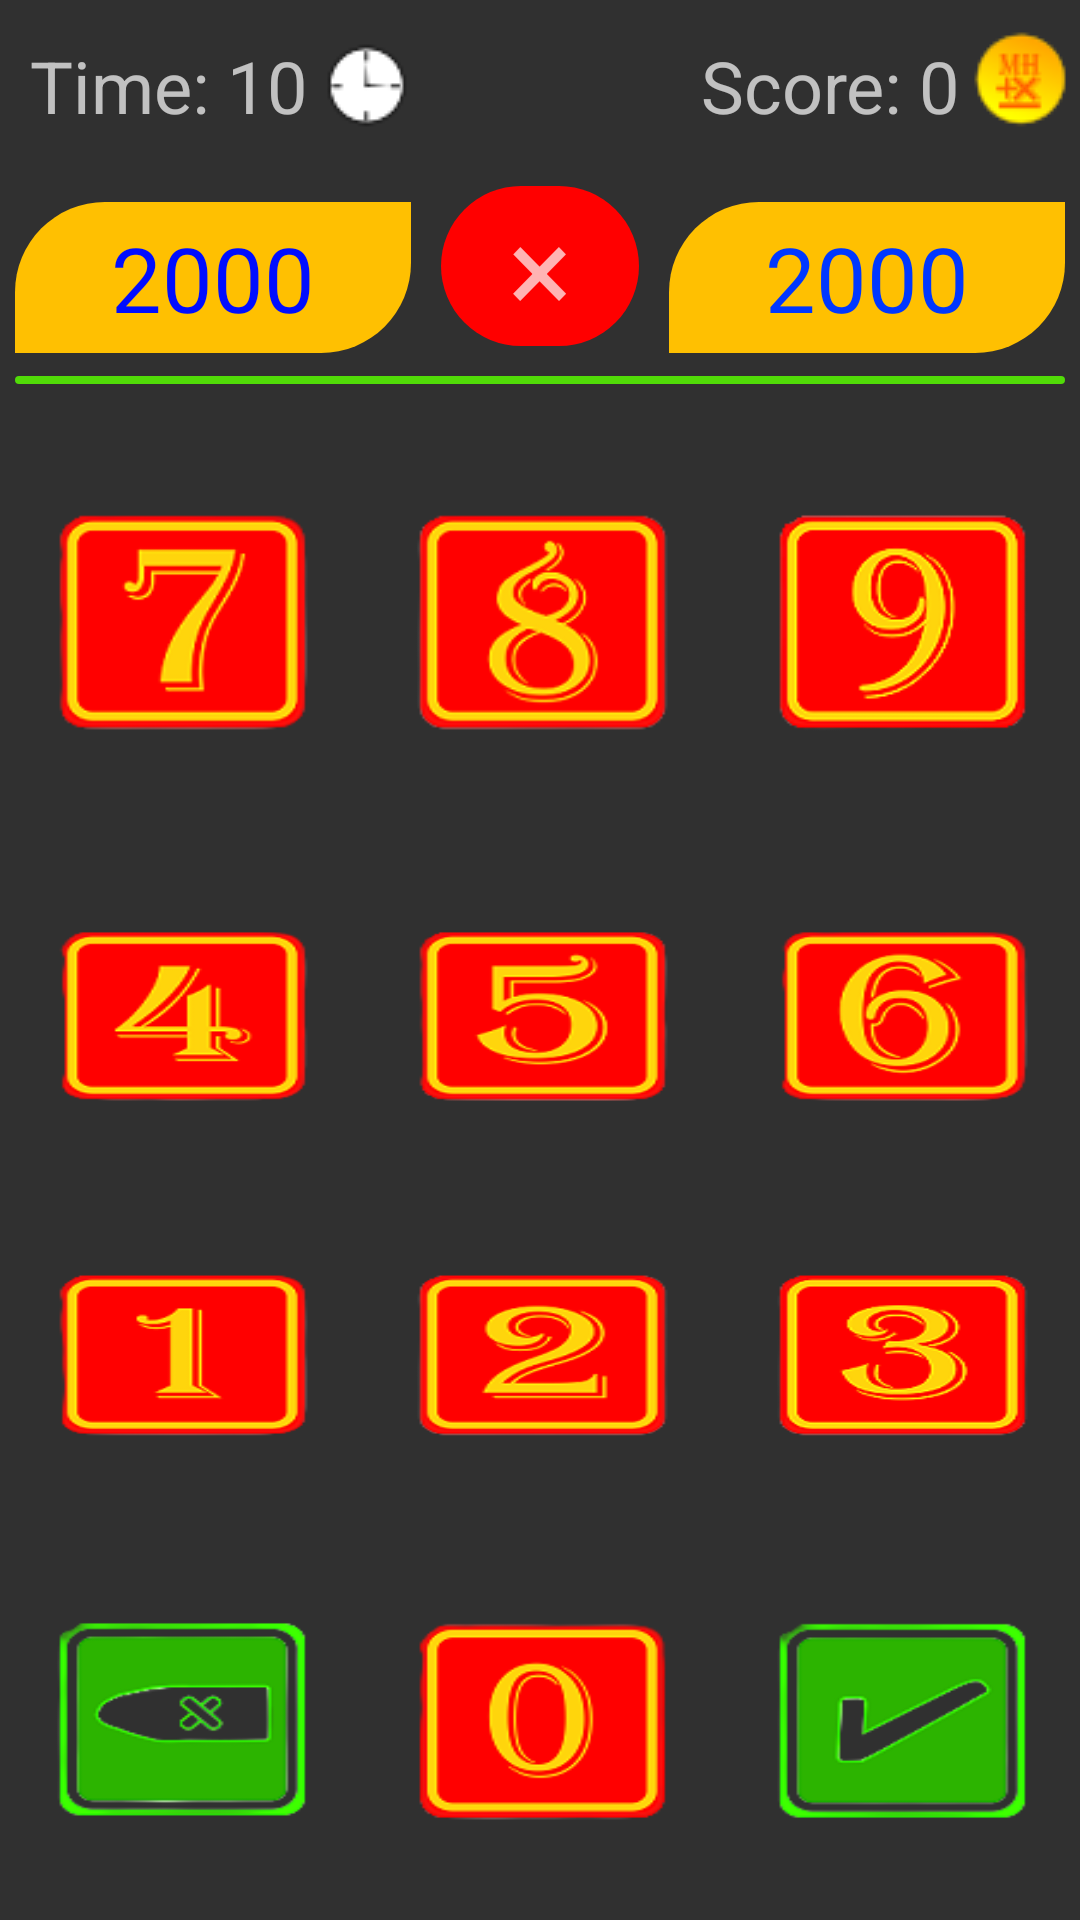

Icon bounding boxes for this 1080px×1920px phone screenshot, format (x1, y1, x2, y2):
backspace: (59, 1623, 306, 1816)
